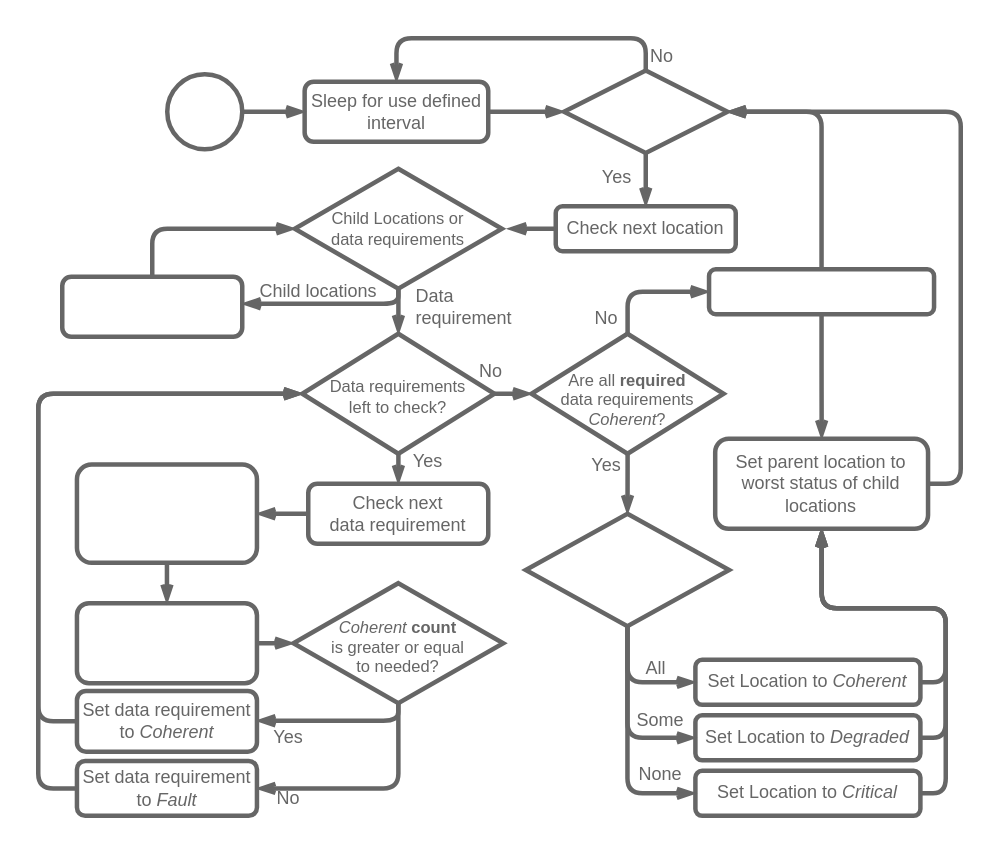
Some shapes in this 1001 by 845 pixel diagram are drawn without their labels. The centre of each missing label's shape, as x and y in pixels:
Check component's last readings. Set to Fault all where timeout has exceded: (166,513)
Check next child location.: (151,306)
Count number of Coherent components.: (166,642)
How many optional data requirements are Coherent ?: (627,569)
Locations left to check?: (645,111)
Set Location to Fault: (821,291)
Start: (204,111)
